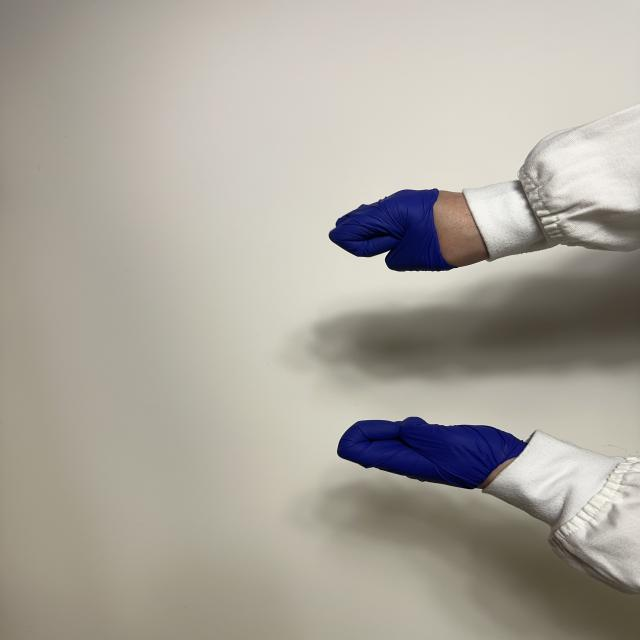glove_not_fitted: (328, 184, 497, 273), (336, 416, 536, 491)
